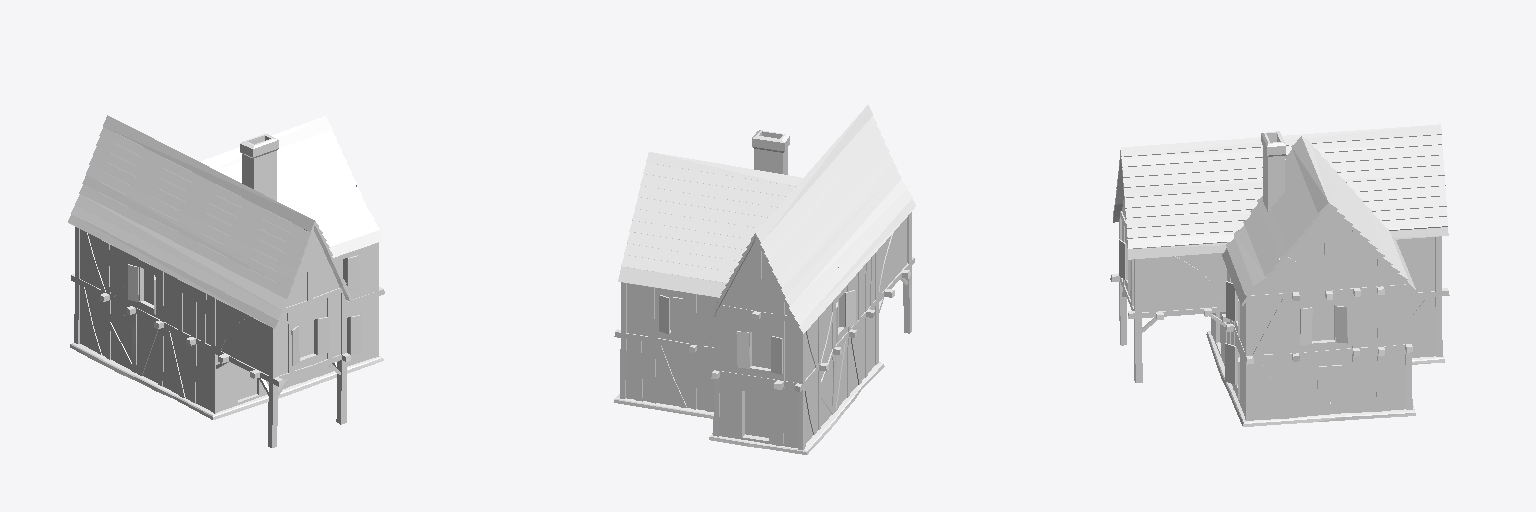
The model's file is medieval_house.obj.
3 renders of one model, left to right at view 1: azimuth 30°, elevation 25°; view 2: azimuth 150°, elevation 25°; view 3: azimuth 270°, elevation 25°, orthographic.
Bounding box in the file's own units: 10.91 × 10.98 × 14.25.